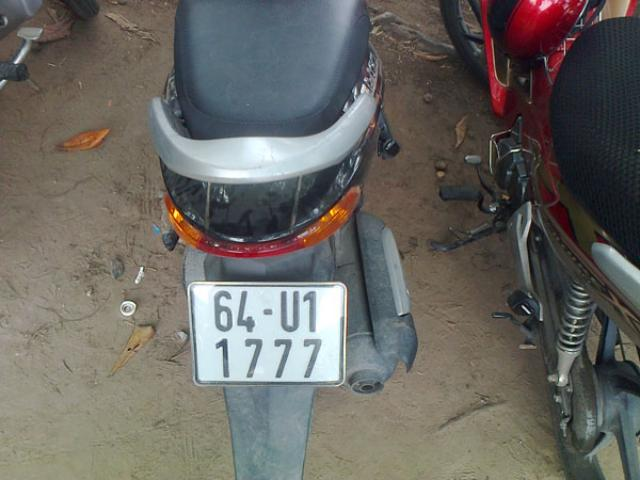plate: (192, 282, 346, 386)
